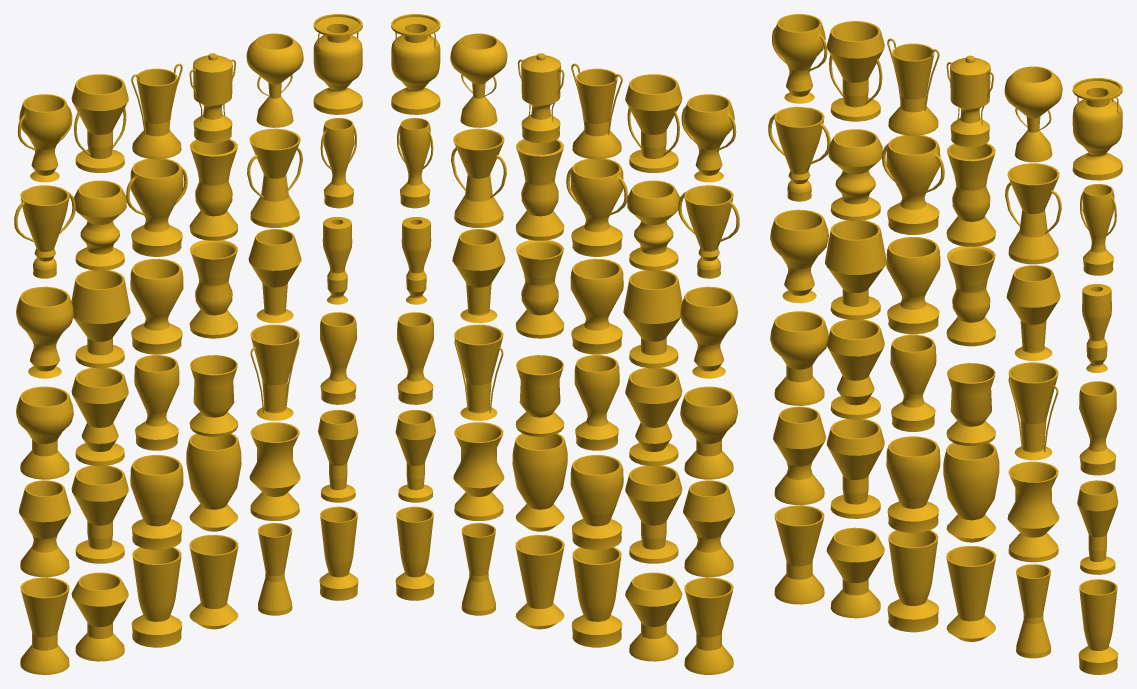
Rendered from Cups.fbx.
3 renders of one model, left to right at view 1: azimuth 30°, elevation 25°; view 2: azimuth 150°, elevation 25°; view 3: azimuth 330°, elevation 25°, orthographic.
Visible parts, largest first — view 1: Cup.004, Cup.027, Cup.010, Cup.035, Cup.031, Cup.009, Cup.002, Cup.012, Cup.021, Cup.014, Cup.008, Cup.007 (+24 smaller); view 2: Cup.004, Cup.027, Cup.010, Cup.035, Cup.031, Cup.009, Cup.002, Cup.012, Cup.021, Cup.014, Cup.008, Cup.007 (+24 smaller); view 3: Cup.004, Cup.027, Cup.010, Cup.035, Cup.031, Cup.009, Cup.002, Cup.012, Cup.021, Cup.014, Cup.008, Cup.007 (+24 smaller).
Part boxes in pixels (bbox=[...]): Cup.004: bbox=[71, 270, 130, 368]; Cup.027: bbox=[126, 158, 187, 256]; Cup.010: bbox=[186, 433, 241, 531]; Cup.035: bbox=[313, 14, 362, 114]; Cup.031: bbox=[71, 74, 128, 172]; Cup.009: bbox=[130, 455, 183, 549]; Cup.002: bbox=[131, 547, 182, 647]; Cup.012: bbox=[71, 367, 128, 465]; Cup.021: bbox=[130, 258, 183, 354]; Cup.014: bbox=[249, 422, 300, 520]; Cup.008: bbox=[71, 465, 128, 563]; Cup.007: bbox=[16, 386, 73, 479]; Cup.004: bbox=[623, 270, 682, 368]; Cup.027: bbox=[566, 158, 627, 256]; Cup.010: bbox=[512, 433, 567, 531]; Cup.035: bbox=[391, 14, 440, 114]; Cup.031: bbox=[625, 74, 682, 172]; Cup.009: bbox=[570, 455, 623, 549]; Cup.002: bbox=[571, 547, 622, 647]; Cup.012: bbox=[625, 367, 682, 465]; Cup.021: bbox=[570, 258, 623, 354]; Cup.014: bbox=[453, 422, 504, 520]; Cup.008: bbox=[625, 465, 682, 563]; Cup.007: bbox=[680, 386, 737, 479]; Cup.004: bbox=[825, 220, 886, 319]; Cup.027: bbox=[882, 135, 944, 234]; Cup.010: bbox=[943, 442, 999, 542]; Cup.035: bbox=[1072, 78, 1122, 180]; Cup.031: bbox=[826, 21, 884, 121]; Cup.009: bbox=[886, 436, 940, 532]; Cup.002: bbox=[887, 530, 938, 632]; Cup.012: bbox=[826, 319, 884, 419]; Cup.021: bbox=[886, 237, 940, 334]; Cup.014: bbox=[1007, 461, 1059, 562]; Cup.008: bbox=[826, 419, 884, 518]; Cup.007: bbox=[770, 311, 828, 405].
Size of the model in its own units: 740 by 1165 by 114.
